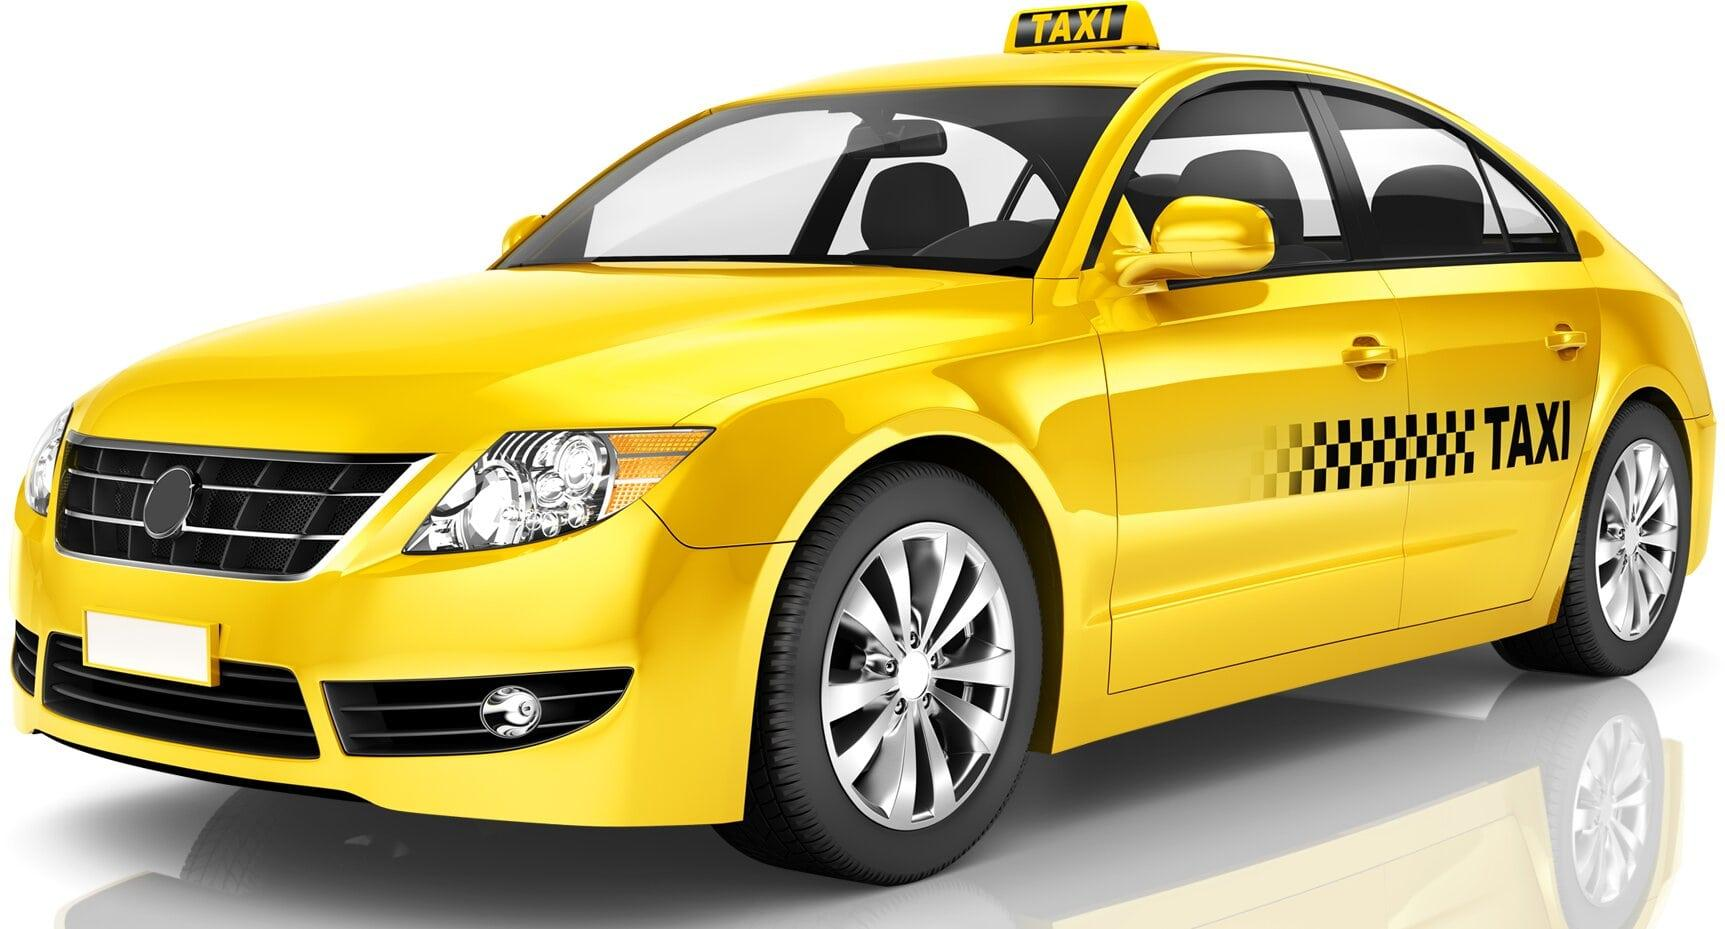taxi: (45, 1, 1725, 886)
